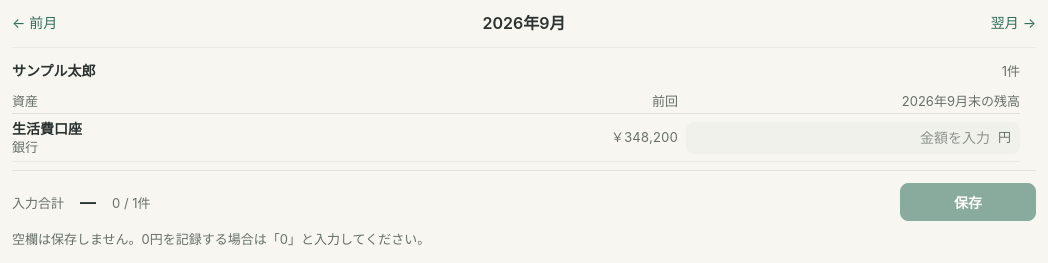
Test case: BulkSnapshotEntry › accepts full-width digits and keeps save feedback until the next edit
The image size is (1048, 263).
Type "１２３，４５６" into the field labelled "金額を入力" at (842, 138), box [695,127,990,149]
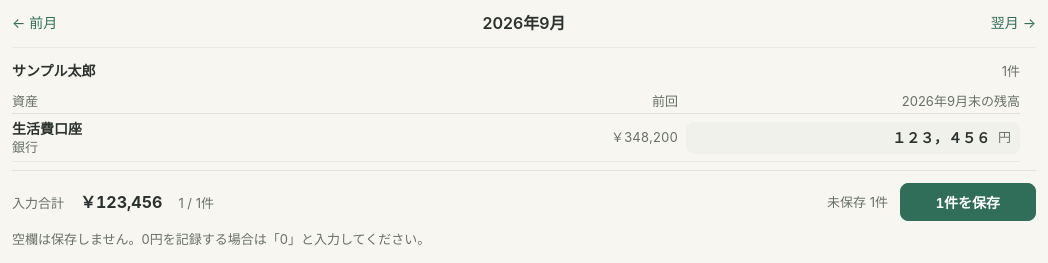
expect the message reads "未保存 1件": met, box [827,194,888,210]
expect the text "￥123,456" is shown: met, box [80,190,162,215]
Click the button "1件を保存" at (968, 202), box [900,183,1036,221]
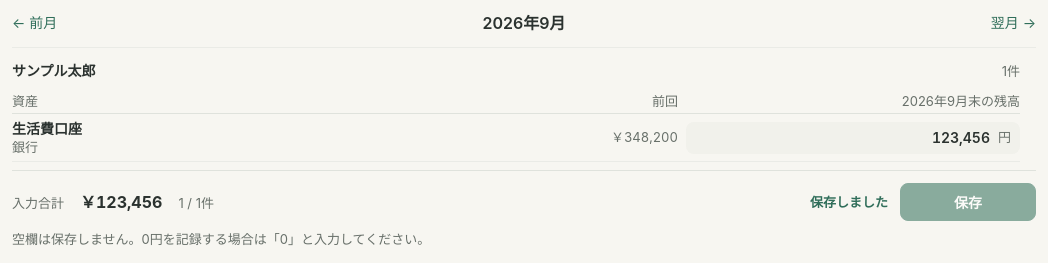
expect the message reads "保存しました": met, box [810,194,888,210]
expect the field holds "123,456": met
expect the button "保存" is disabled: met, box [900,183,1036,221]
Replace the text in the field with "123457" at (842, 138), box [695,127,990,149]
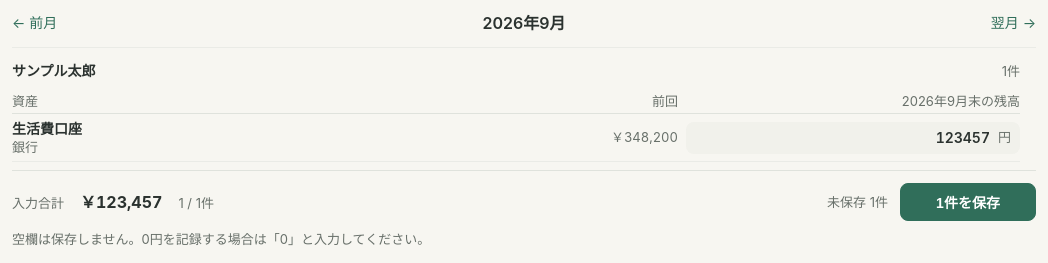
expect the message reads "未保存 1件": met, box [827,194,888,210]
expect the text "保存しました" is gone: met
